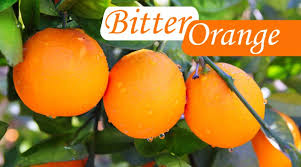orange: (12, 24, 109, 118), (103, 43, 187, 138), (182, 56, 268, 147)
